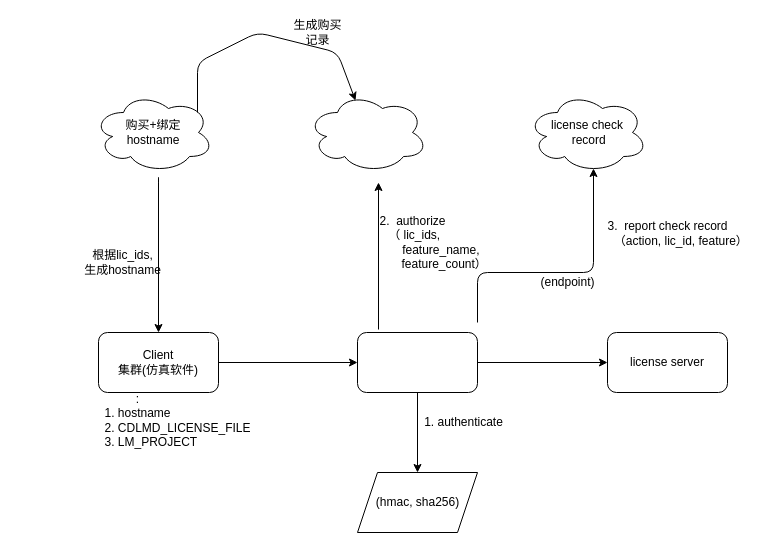
Image size: 774x550. Some labels were removed from this diagram. Here are the shapes that lost their labels. From the top down, the centre of each, then its label:
At (x=367, y=132): "license bought record".
At (x=417, y=362): "license_proxy".
